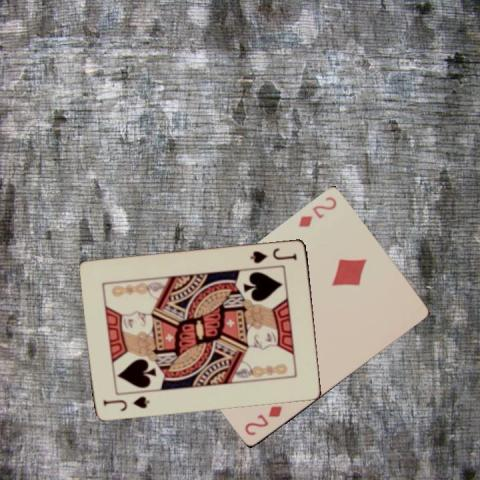2d: (295, 194, 339, 229), (242, 403, 284, 438)
Js: (247, 244, 299, 265), (101, 393, 152, 412)
